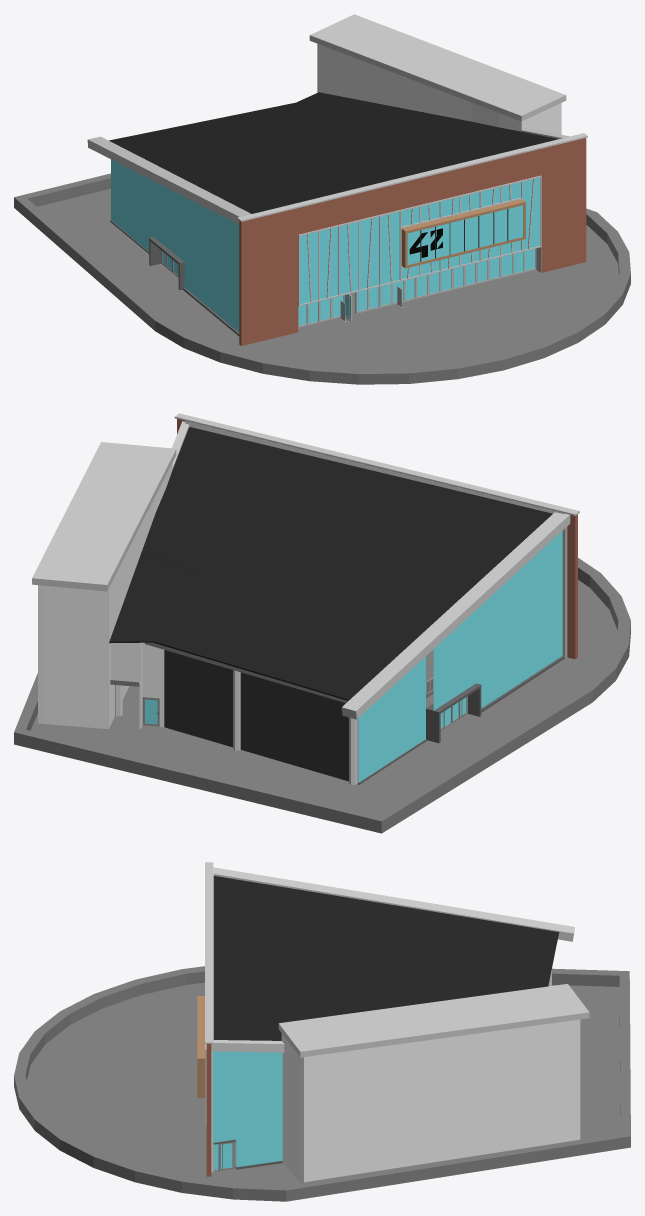
The model's file is 42WOB_v4.glb.
3 renders of one model, top to bottom at view 1: azimuth 30°, elevation 25°; view 2: azimuth 150°, elevation 25°; view 3: azimuth 270°, elevation 25°, orthographic. The views are drawn at different scales.
Parts seen in each view (by area): view 1: Ground.001, Cube.797, Cube.560, Plane.081, Cube.783, Cube.782, Plane.098, Plane.082, Plane.100, Cube.796, Cube.561, Plane.099 (+5 smaller); view 2: Cube.797, Ground.001, Cube.782, Cube.783, Plane.098, Cube.316, Cube.796, Cube.313, Plane.100, Plane.099, Cube.561, Cube.328 (+7 smaller); view 3: Ground.001, Cube.797, Cube.782, Cube.783, Plane.101, Cube.796, Cube.561, Cube.798, Cube.563, Cube.560.
Boxes of the visible parts, x1,y1,x2,y2 form: Ground.001: [14, 173, 630, 384]; Cube.797: [109, 92, 558, 213]; Cube.560: [239, 138, 586, 345]; Plane.081: [300, 177, 540, 304]; Cube.783: [309, 14, 566, 121]; Cube.782: [317, 43, 561, 134]; Plane.098: [184, 197, 239, 332]; Plane.082: [407, 205, 523, 264]; Plane.100: [111, 159, 153, 251]; Cube.796: [87, 136, 251, 224]; Cube.561: [237, 133, 587, 221]; Plane.099: [154, 181, 184, 262]; Cube.797: [109, 427, 552, 700]; Ground.001: [14, 558, 630, 833]; Cube.782: [38, 463, 172, 729]; Cube.783: [32, 442, 176, 591]; Plane.098: [476, 531, 562, 708]; Cube.316: [240, 672, 348, 781]; Cube.796: [341, 512, 570, 719]; Cube.313: [164, 650, 232, 747]; Plane.100: [358, 656, 425, 782]; Plane.099: [433, 610, 476, 710]; Cube.561: [174, 413, 579, 515]; Cube.328: [110, 642, 164, 727]; Ground.001: [14, 966, 630, 1201]; Cube.797: [213, 876, 559, 1040]; Cube.782: [281, 1019, 580, 1182]; Cube.783: [278, 984, 589, 1057]; Plane.101: [213, 1051, 282, 1167]; Cube.796: [213, 867, 574, 941]; Cube.561: [205, 862, 213, 1043]; Cube.798: [211, 1040, 284, 1052]; Cube.563: [197, 996, 205, 1097]; Cube.560: [206, 1044, 211, 1176].
Bounding box in the file's own units: 37.78 × 10.53 × 42.82.
